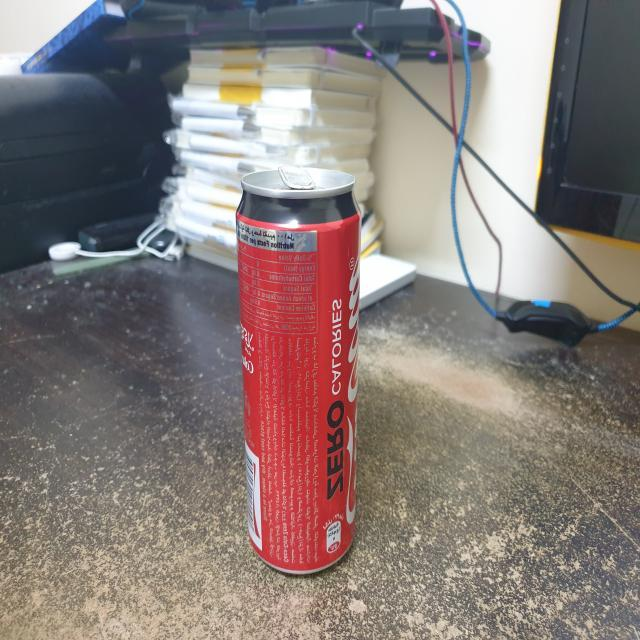can: (220, 153, 380, 594)
